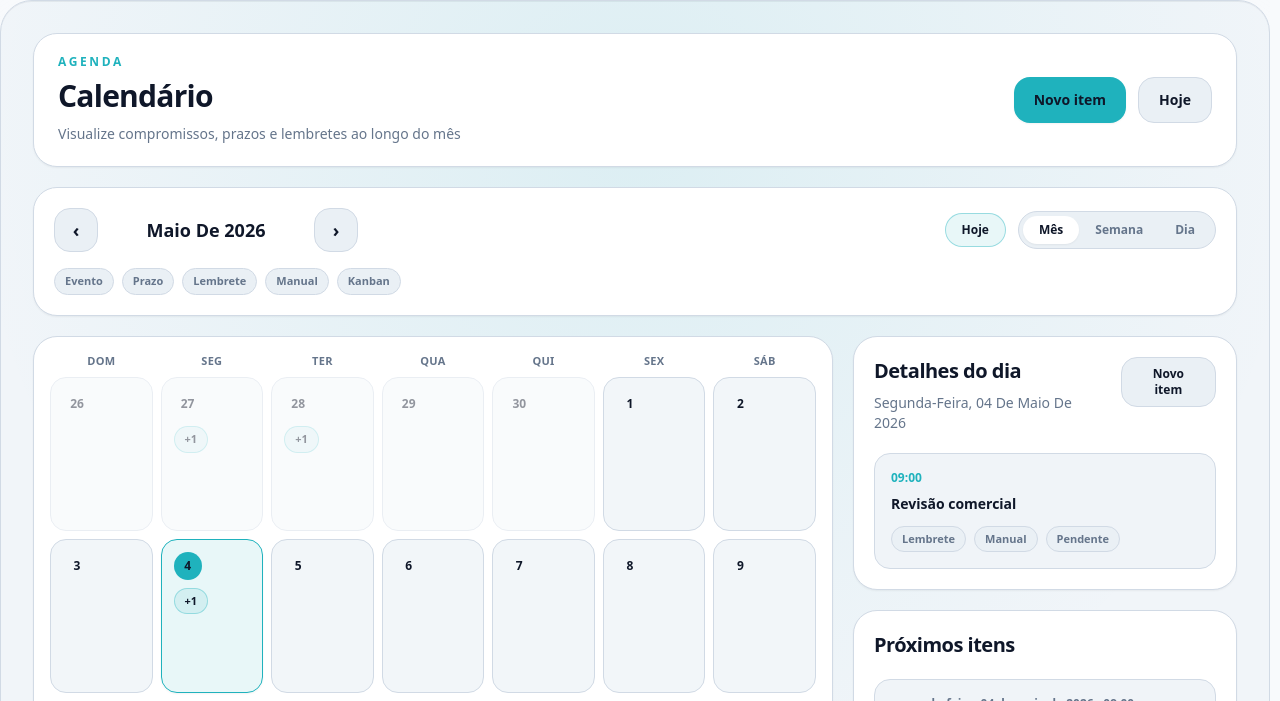
Test: AgendaCalendarPage › switches between month, week, and day views
This screenshot has width=1280, height=701.
Click the button "Semana". click: (1119,230)
box: [1079,216,1159,244]
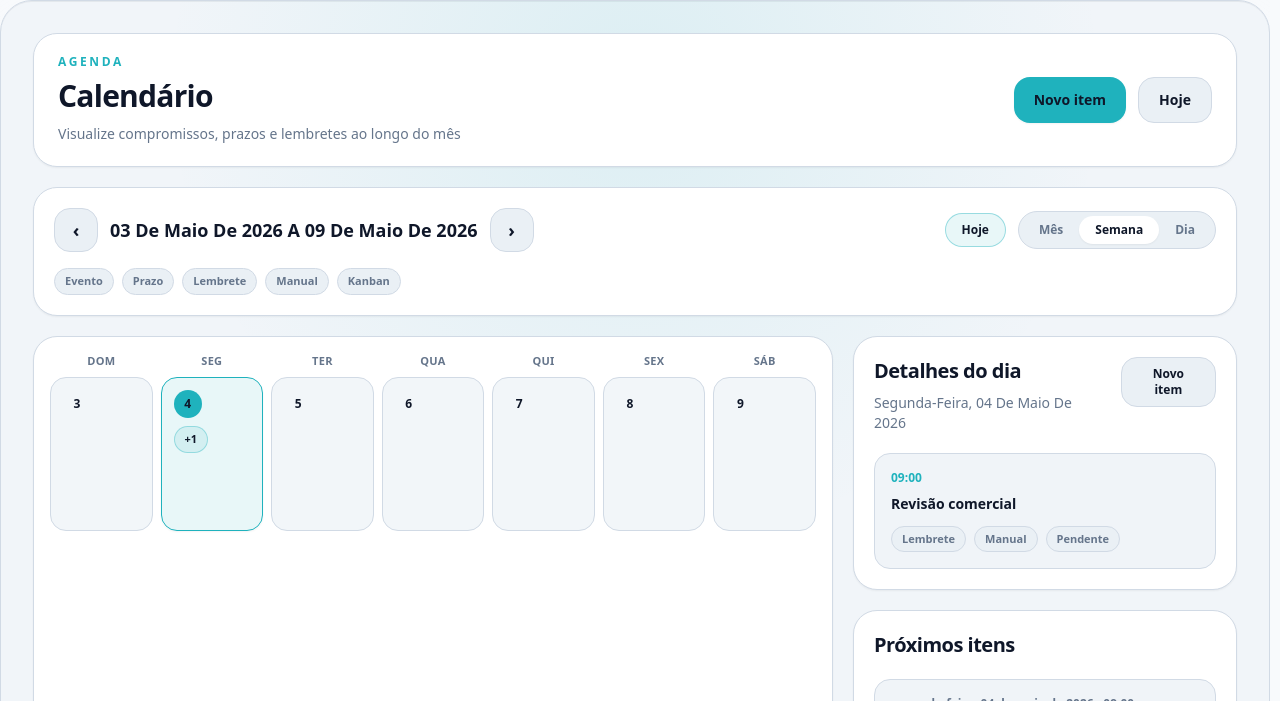
Check: the element with test id "week-grid" is shown, box [50,377,816,531]
Click the button "Dia". click: (1185,230)
box: [1159,216,1211,244]
(page scrolled)
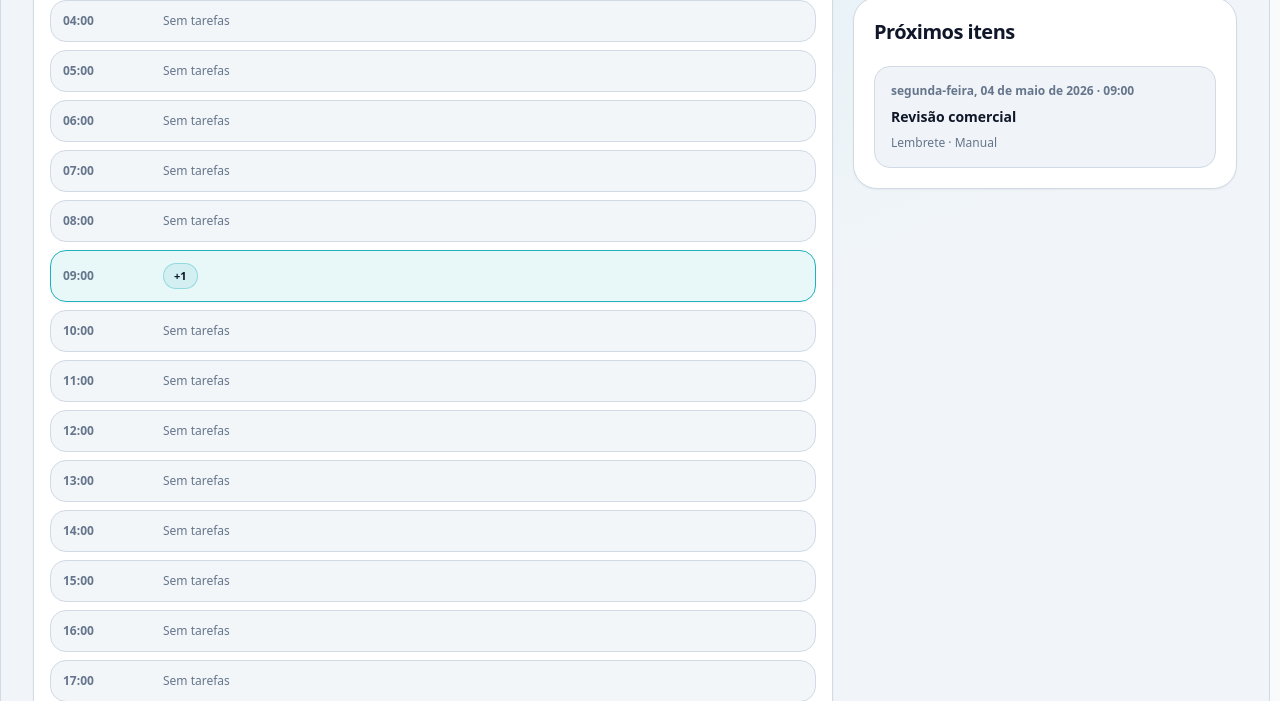
Check: the element with test id "week-grid" is gone
